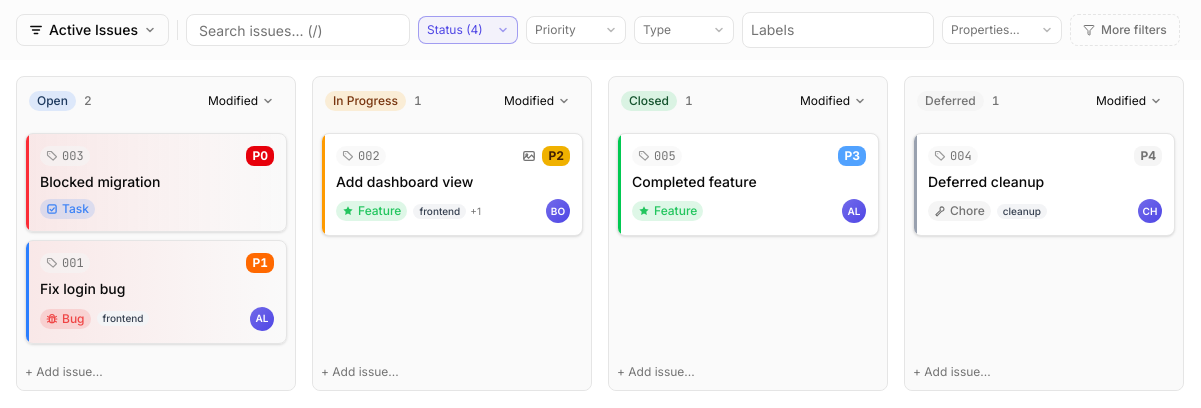
Test case: BoardView › collapses closed column when clicking the header
This screenshot has width=1201, height=408.
Expected: the list named "closed issues" is shown, [617,133,879,236]
# Click the header to collapse
What coordinates should you click on to do the following:
click the button with aria-label "Collapse closed column"
I would click on:
 (649, 101)
Its box is [621,87,875,115].
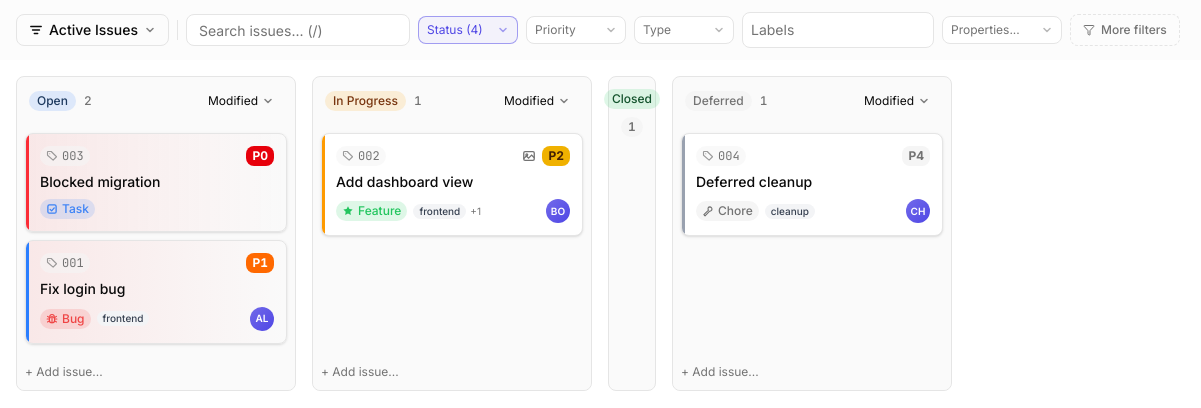
Now the button with aria-label "Expand closed column" is shown, box [608,76,656,390]
